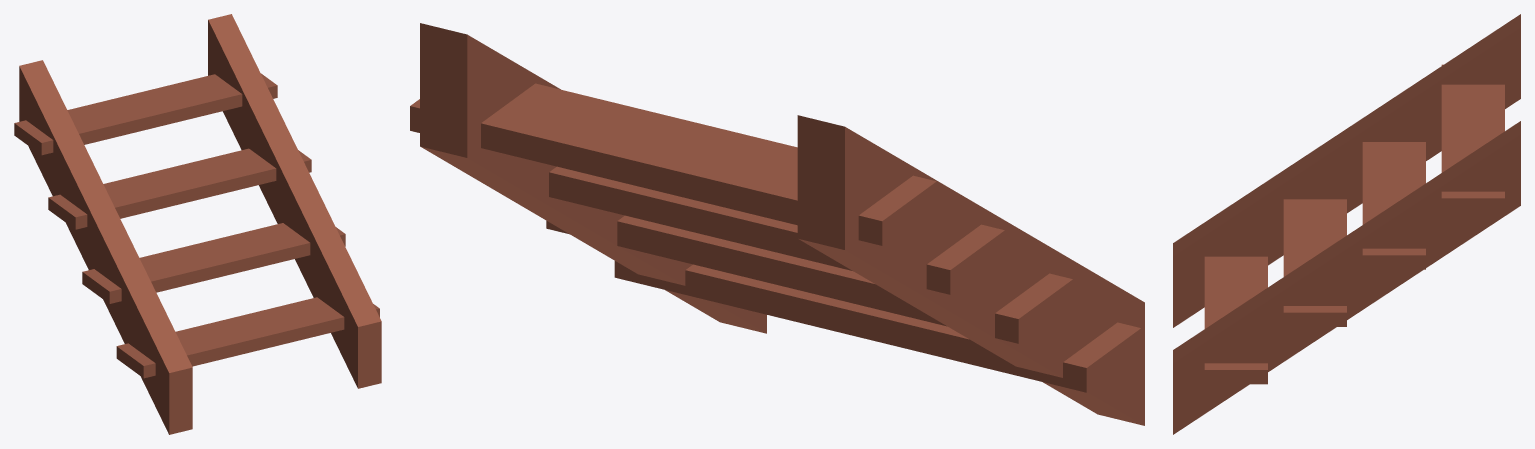
The model's file is scaffold_stairs 1.fbx.
3 renders of one model, left to right at view 1: azimuth 30°, elevation 25°; view 2: azimuth 150°, elevation 25°; view 3: azimuth 270°, elevation 25°, orthographic. The views are drawn at different scales.
Visible parts, largest first — view 1: scaffold_stairs; view 2: scaffold_stairs; view 3: scaffold_stairs.
Boxes of the visible parts, left/top/right/bottom form: scaffold_stairs: left=14, top=14, right=381, bottom=434; scaffold_stairs: left=410, top=23, right=1144, bottom=425; scaffold_stairs: left=1173, top=14, right=1520, bottom=434.
Bounding box in the file's own units: 200 × 210 × 220.
